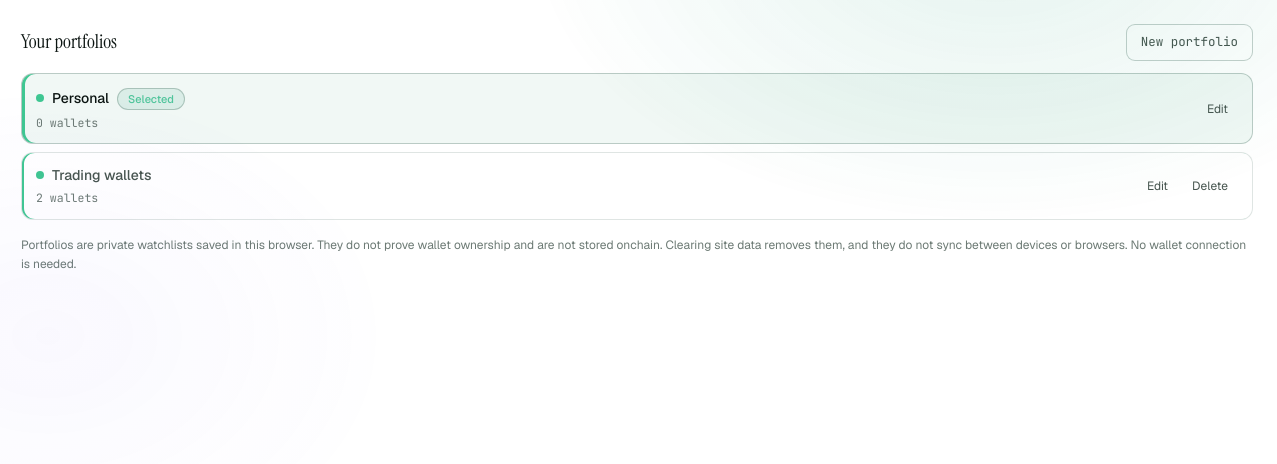
Test case: actions do not trigger selection › Edit opens the rename form without selecting
This screenshot has width=1277, height=464.
Click the button with aria-label "rename".
click(1158, 186)  # box [1137,172,1178,200]
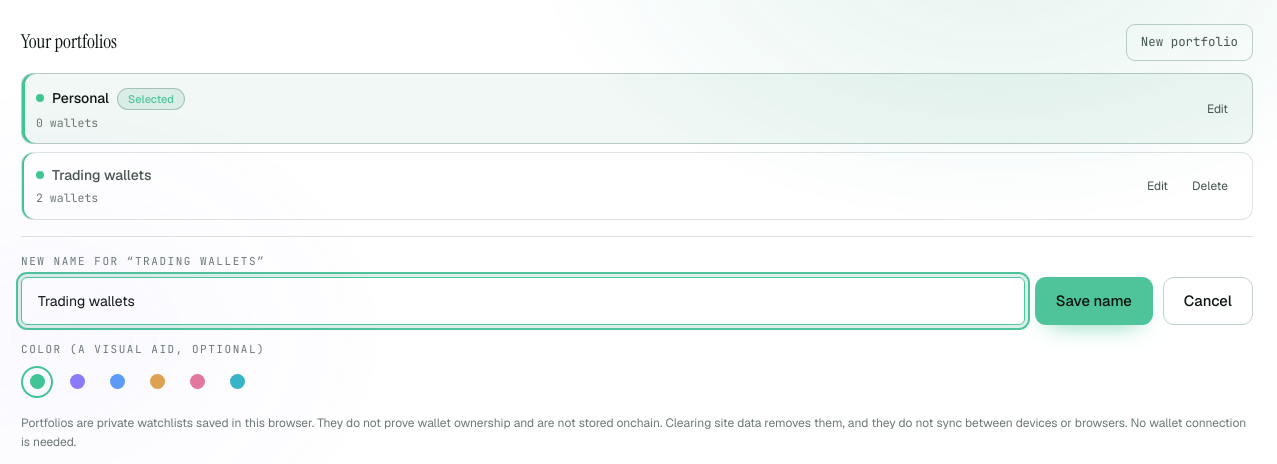
Expected: the field labelled "New name for “Trading wallets”" is shown, [21,277,1025,326]
